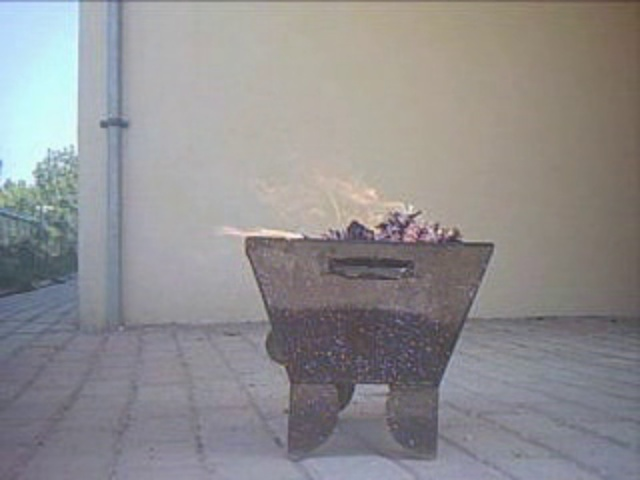fire: (309, 175, 430, 238)
